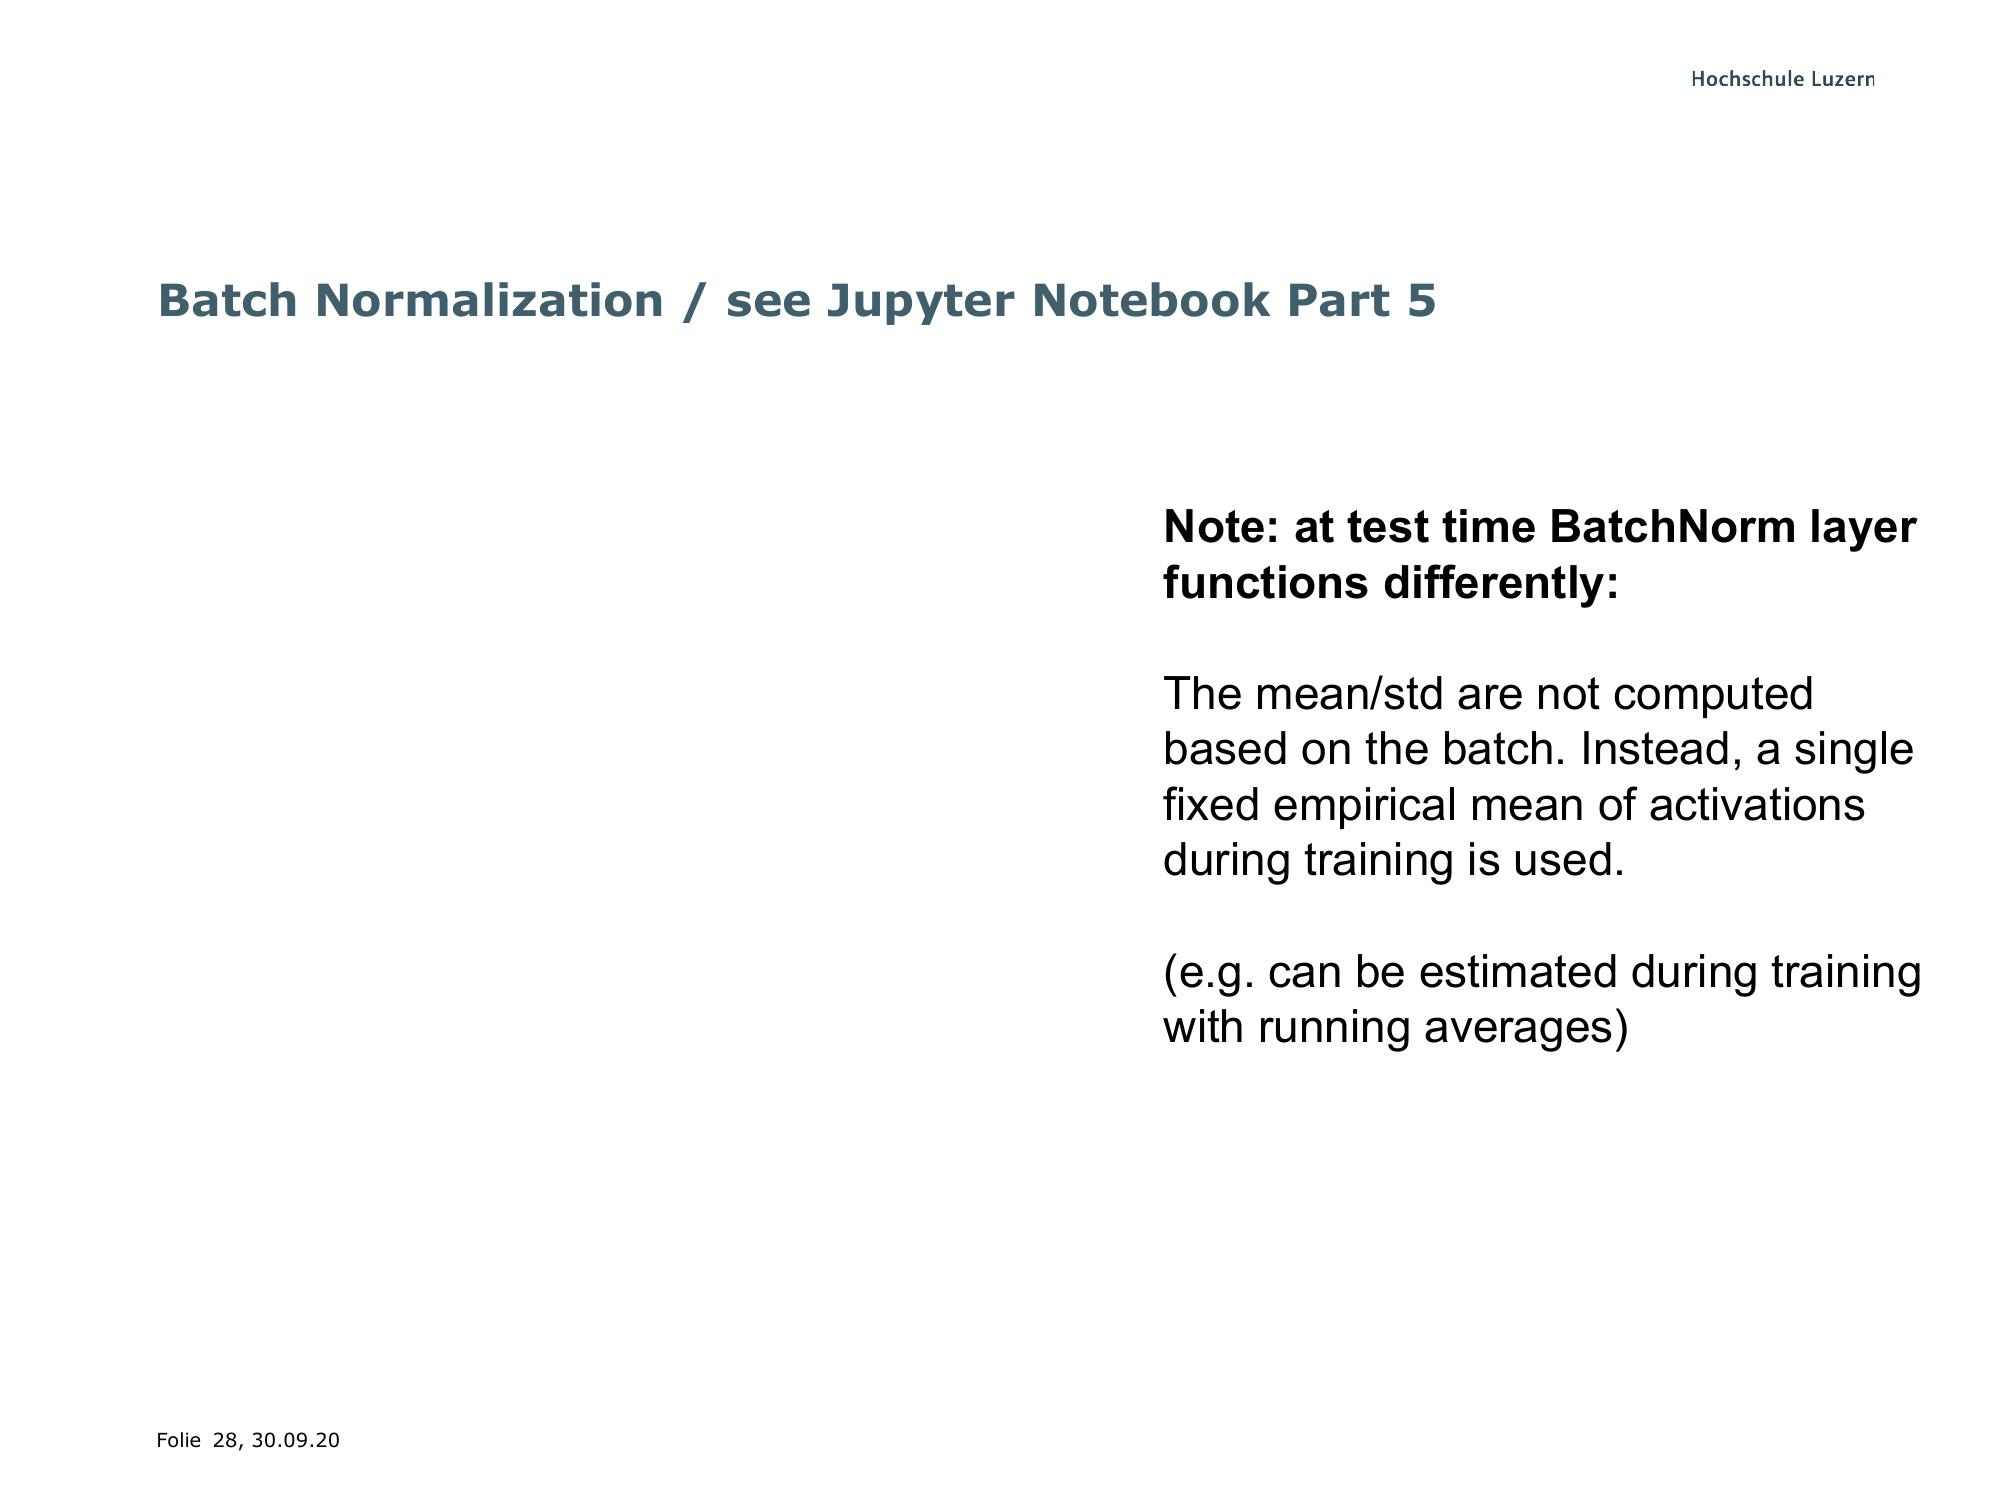Title: (117, 257, 1468, 342)
